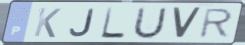J: (68, 7, 97, 38)
K: (31, 6, 63, 39)
L: (99, 6, 127, 40)
R: (196, 7, 236, 40)
U: (130, 6, 169, 41)
V: (171, 6, 204, 41)
